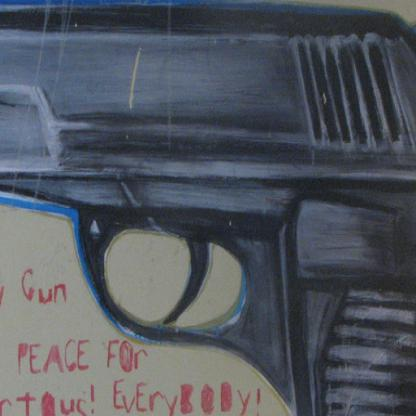gun: (0, 6, 415, 415)
